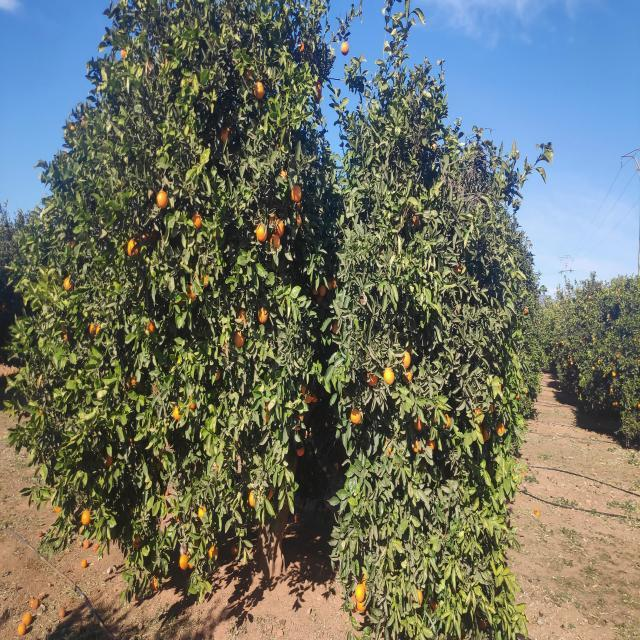Jeruk Sudah Matang: (128, 238, 140, 258), (256, 223, 268, 242), (156, 191, 168, 209), (291, 185, 302, 202), (144, 321, 156, 336), (186, 284, 196, 302), (274, 220, 284, 238), (384, 366, 394, 384), (355, 584, 365, 602), (270, 233, 280, 250), (366, 372, 378, 386), (255, 82, 264, 100), (192, 213, 202, 229), (234, 332, 244, 348), (258, 308, 268, 324), (402, 351, 411, 368), (350, 408, 360, 423), (473, 409, 483, 424), (221, 127, 230, 143), (63, 278, 73, 292), (208, 545, 218, 559), (416, 589, 424, 606), (402, 370, 412, 383), (180, 554, 188, 570), (414, 416, 422, 432), (238, 309, 246, 324), (444, 413, 451, 430), (186, 398, 195, 411), (82, 510, 90, 524), (249, 491, 256, 507), (341, 42, 349, 56), (356, 600, 366, 611), (173, 406, 180, 421), (198, 507, 206, 520), (428, 437, 436, 450), (412, 215, 420, 228), (296, 446, 306, 456), (412, 440, 419, 454), (132, 536, 140, 548), (104, 454, 112, 466), (496, 422, 504, 434), (482, 428, 490, 440), (314, 82, 322, 94), (332, 322, 339, 335), (314, 94, 322, 105), (121, 48, 128, 60), (296, 214, 302, 228), (320, 284, 327, 296), (269, 214, 277, 224), (304, 394, 312, 404), (363, 575, 368, 590), (332, 277, 338, 289), (281, 170, 287, 180), (301, 384, 306, 396), (298, 42, 304, 52), (216, 368, 220, 381), (96, 325, 101, 335), (327, 281, 332, 290), (132, 376, 136, 386), (431, 142, 436, 150), (312, 288, 318, 294), (90, 324, 94, 332)
